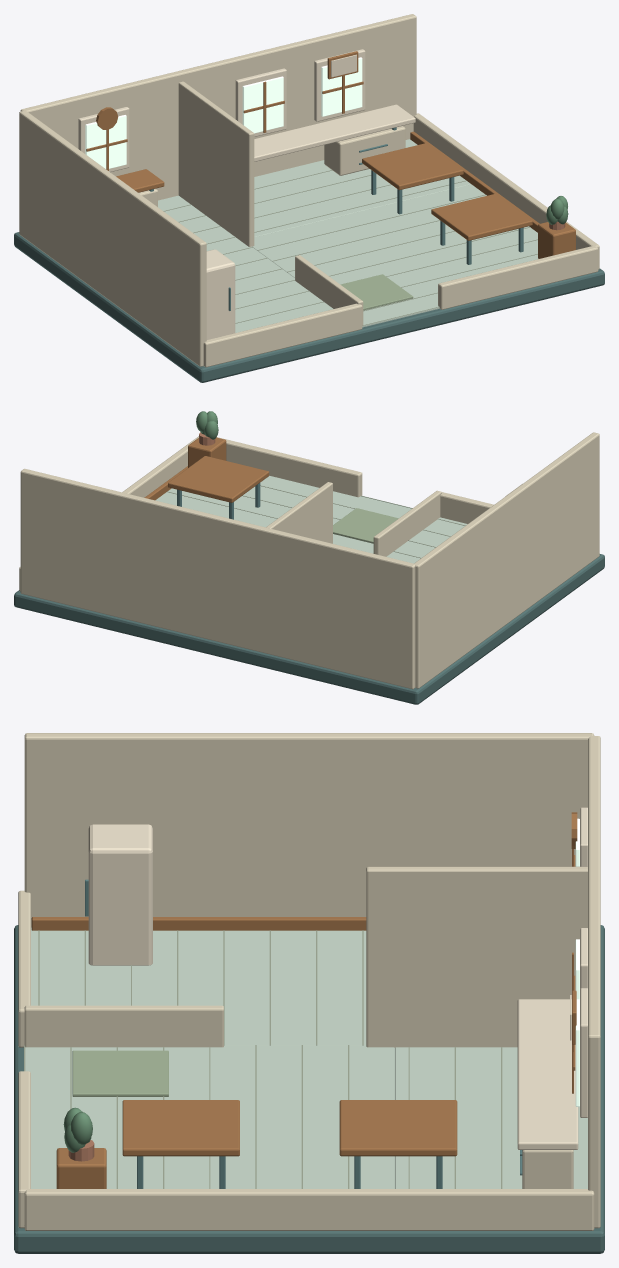
The model's file is interior-cafe.glb.
The picture shows the model from 3 angles, top to bottom: view 1: azimuth 30°, elevation 25°; view 2: azimuth 150°, elevation 25°; view 3: azimuth 270°, elevation 25°; orthographic projection. The views are drawn at different scales.
Parts seen in each view (by area): view 1: Surface Warm plaster, Surface Tile, Surface Honey oak, Interior plinth, Surface Linen, Surface Daylight, Surface Floor seam, Welcome rug, Surface Steel, Surface Houseplant; view 2: Surface Warm plaster, Interior plinth, Surface Tile, Surface Honey oak, Welcome rug, Surface Houseplant, Surface Floor seam; view 3: Surface Warm plaster, Surface Tile, Surface Linen, Surface Honey oak, Interior plinth, Welcome rug, Surface Floor seam, Surface Steel, Surface Houseplant, Surface Daylight.
Boxes of the visible parts, x1,y1,x2,y2 form: Surface Warm plaster: (19, 14, 599, 367); Surface Tile: (158, 139, 538, 332); Surface Honey oak: (86, 51, 575, 258); Interior plinth: (14, 232, 604, 382); Surface Linen: (78, 49, 415, 339); Surface Daylight: (85, 57, 362, 168); Surface Floor seam: (163, 170, 537, 325); Welcome rug: (340, 274, 413, 310); Surface Steel: (149, 127, 523, 310); Surface Houseplant: (546, 196, 568, 224); Surface Warm plaster: (19, 432, 599, 689); Interior plinth: (14, 554, 604, 704); Surface Tile: (155, 475, 467, 563); Surface Honey oak: (144, 437, 269, 502); Welcome rug: (333, 508, 398, 543); Surface Houseplant: (196, 411, 218, 439); Surface Floor seam: (167, 485, 465, 558); Surface Warm plaster: (18, 733, 600, 1230); Surface Tile: (25, 927, 587, 1188); Surface Linen: (88, 807, 587, 1149); Surface Honey oak: (31, 812, 577, 1188); Interior plinth: (14, 925, 604, 1253); Welcome rug: (72, 1050, 168, 1096); Surface Floor seam: (24, 930, 502, 1225); Surface Steel: (85, 879, 522, 1188); Surface Houseplant: (63, 1107, 92, 1152); Surface Daylight: (575, 818, 579, 1106).
Size of the model in its own units: 10.3 by 3.33 by 8.3.
